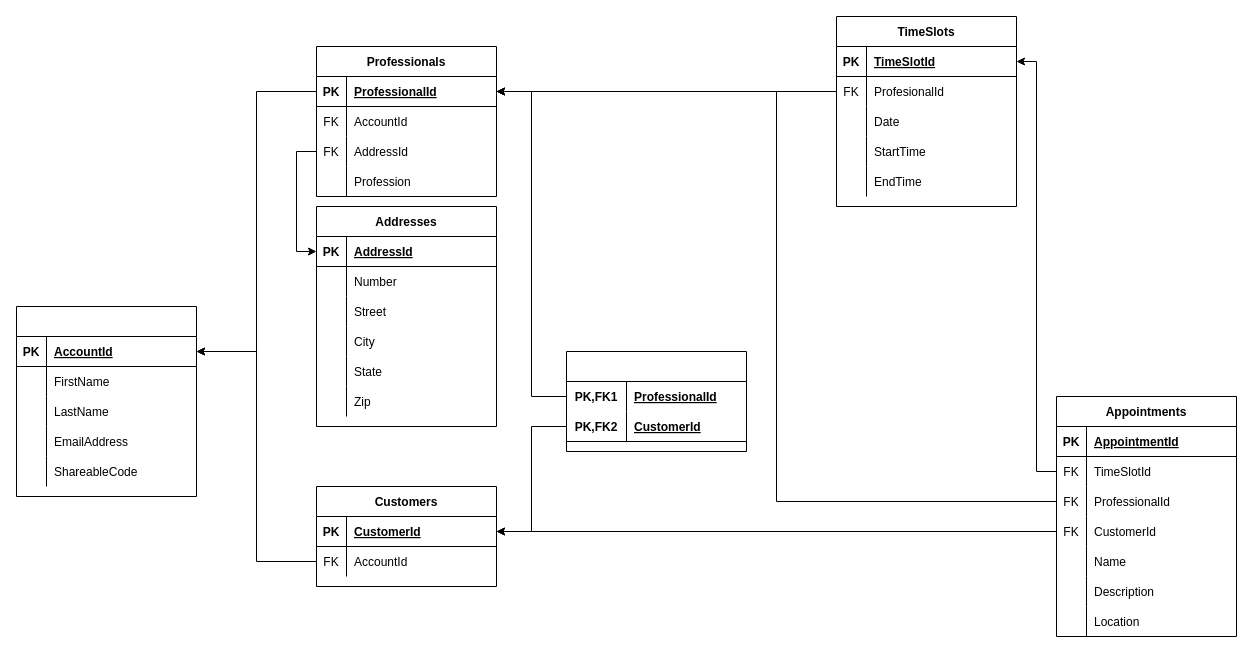
The diagram is 1253 pixels wide and 653 high, and some of its shapes have lost their labels. Each missing label, with the box of its shape:
Accounts: (16, 306, 196, 496)
CustomerFavorites: (566, 350, 746, 452)
